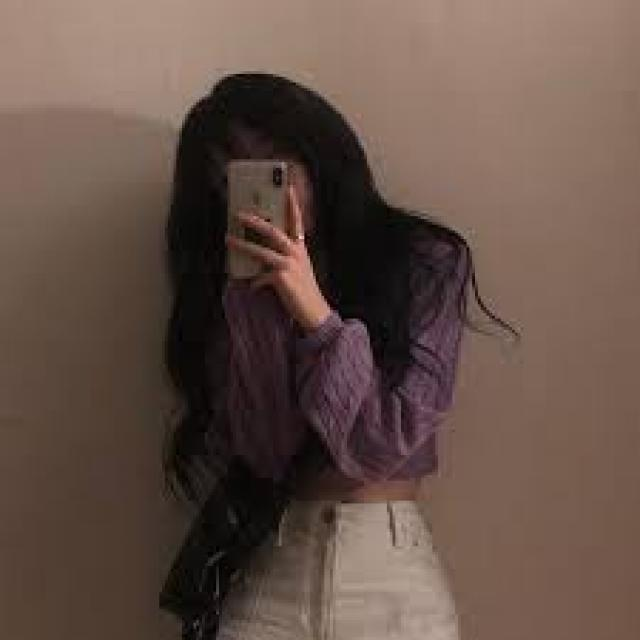Phone: (223, 158, 292, 282)
